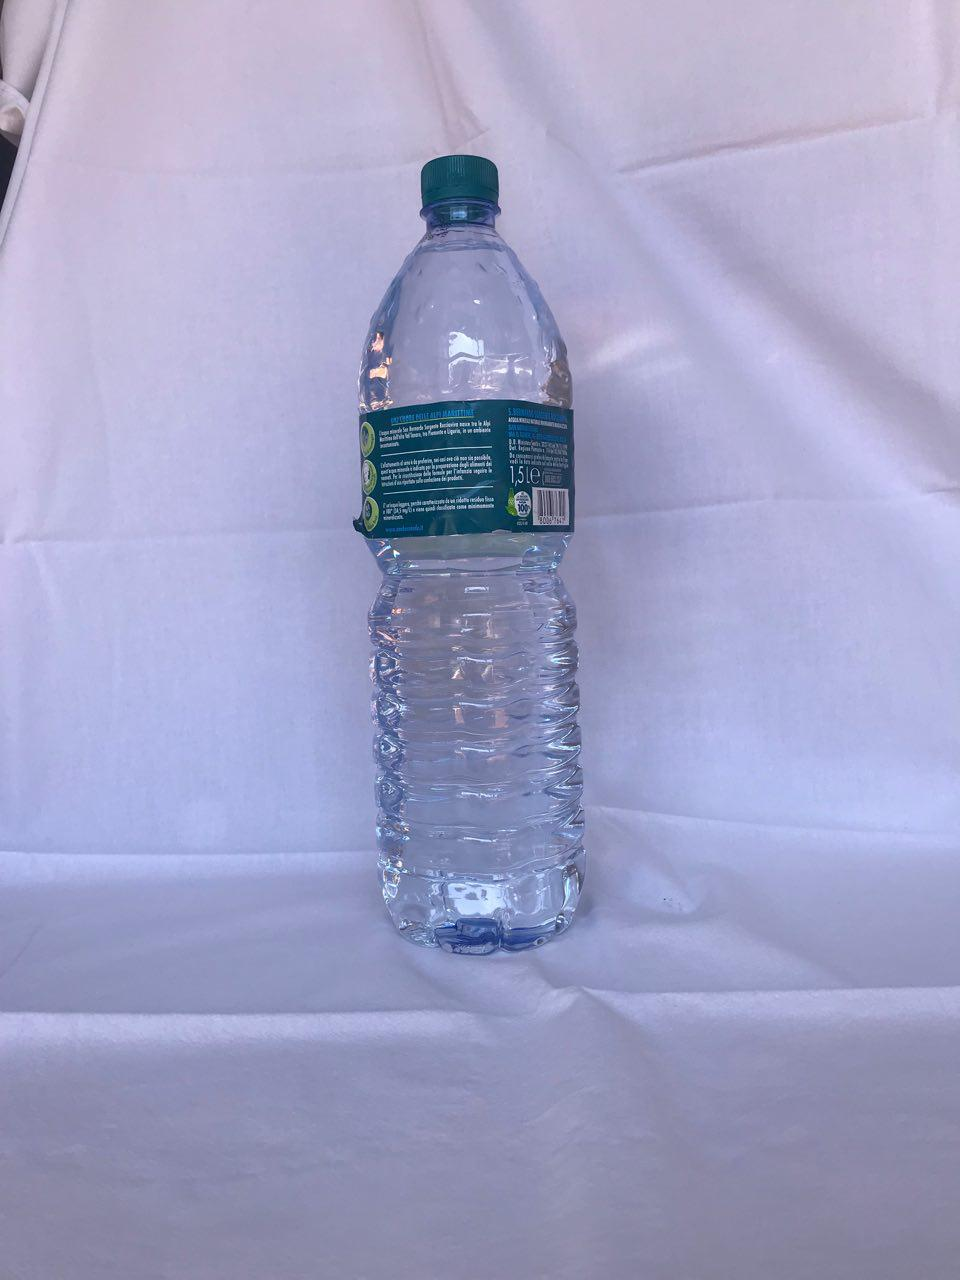san_bernardo: (352, 148, 587, 957)
